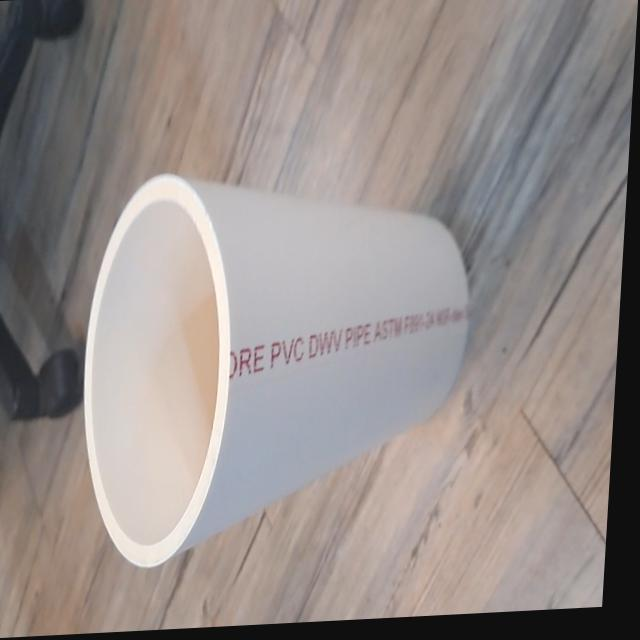CORAL: (66, 134, 479, 578)
